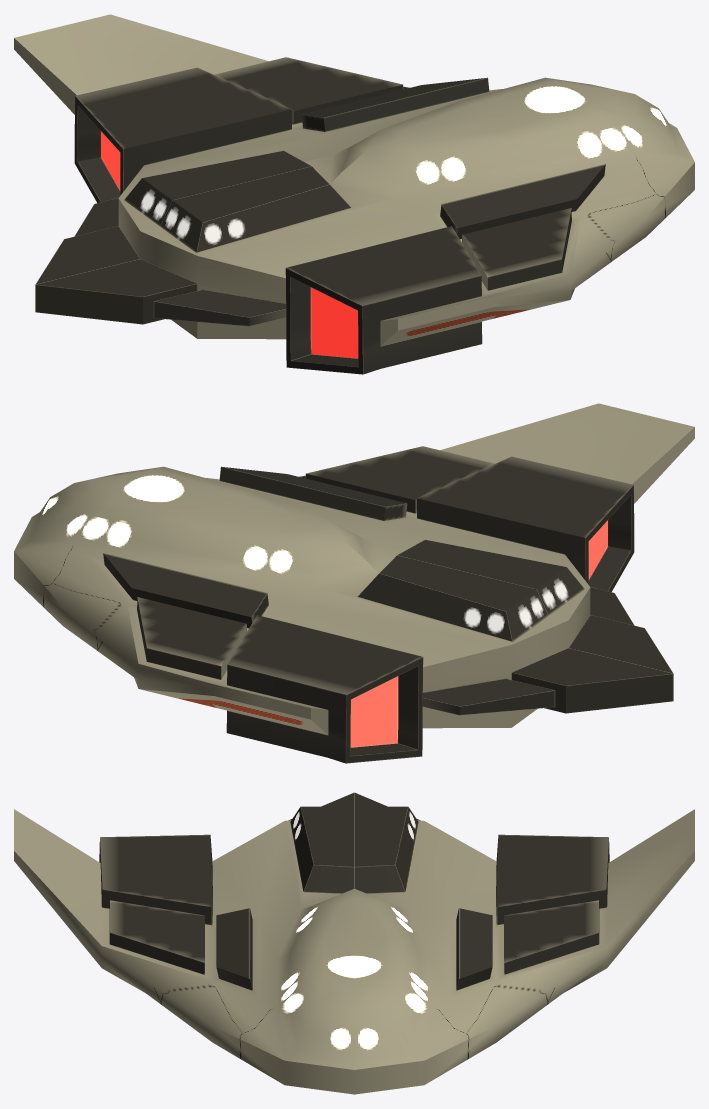
File: Delta II.fbx
The picture shows the model from 3 angles, top to bottom: view 1: azimuth 30°, elevation 25°; view 2: azimuth 150°, elevation 25°; view 3: azimuth 270°, elevation 25°; orthographic projection. The views are drawn at different scales.
Visible parts, largest first — view 1: Cube; view 2: Cube; view 3: Cube.
Boxes of the visible parts, x1=… form: Cube: x1=14, y1=14, x2=694, y2=374; Cube: x1=14, y1=403, x2=694, y2=763; Cube: x1=14, y1=792, x2=694, y2=1094.
Bounding box in the file's own units: 462 × 88.69 × 479.
1 material, 1 textured.
